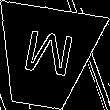M_S: (16, 29, 75, 86)
